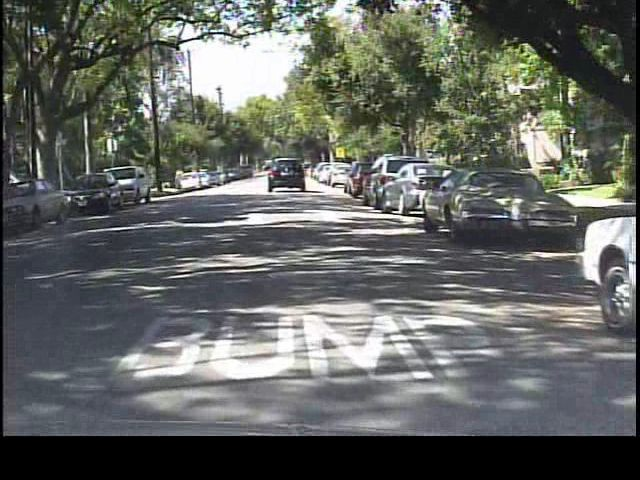person: (174, 168, 187, 196)
